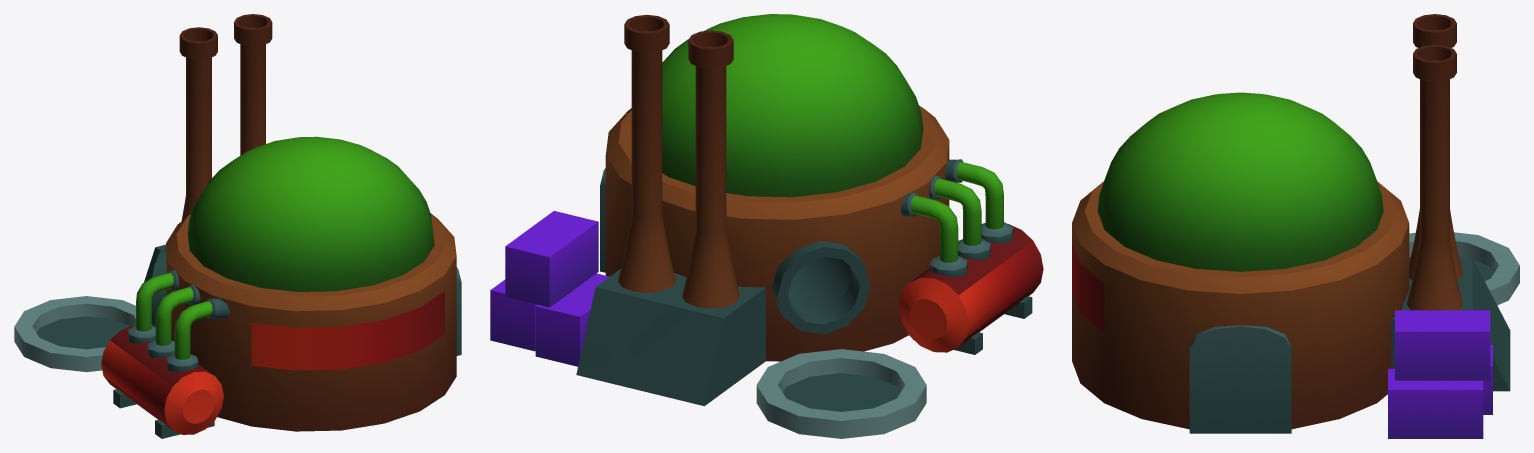
The model's file is factory.fbx.
The picture shows the model from 3 angles, left to right: view 1: azimuth 30°, elevation 25°; view 2: azimuth 150°, elevation 25°; view 3: azimuth 270°, elevation 25°; orthographic projection. The views are drawn at different scales.
Visible parts, largest first — view 1: polySurface768; view 2: polySurface768; view 3: polySurface768.
Part boxes in pixels (x1=…): polySurface768: x1=14, y1=14, x2=461, y2=438; polySurface768: x1=490, y1=14, x2=1043, y2=438; polySurface768: x1=1072, y1=14, x2=1519, y2=438.
Size of the model in its own units: 63.83 by 55.73 by 63.22.
